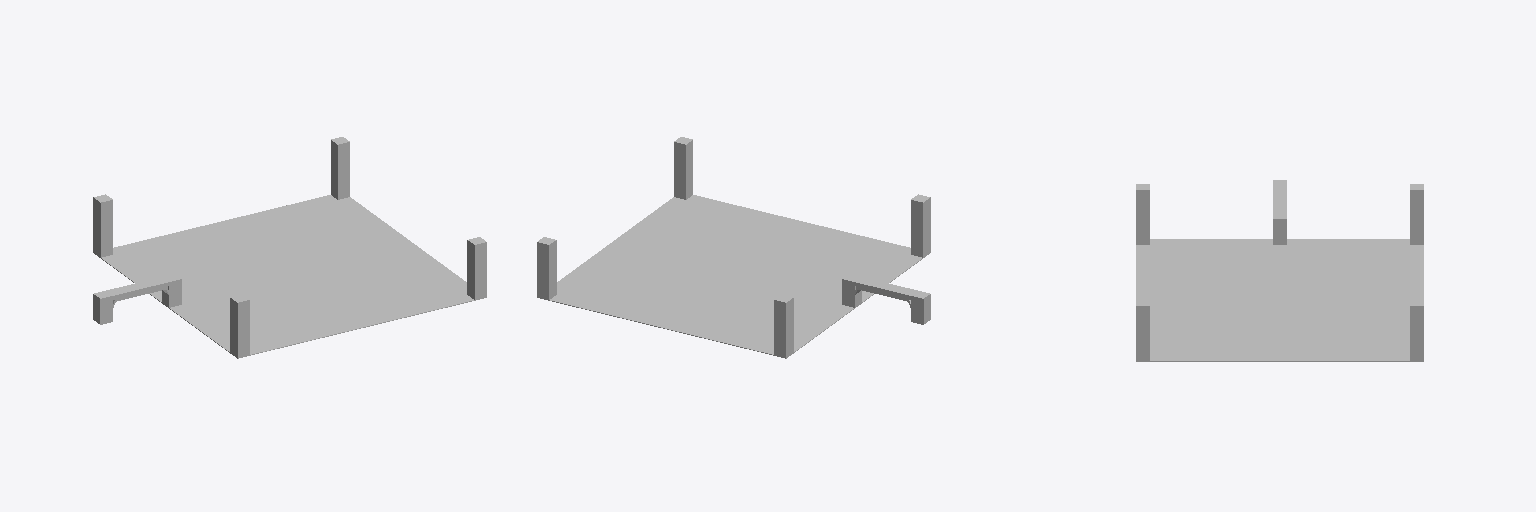
The model's file is vehicle.obj.
The picture shows the model from 3 angles: view 1: azimuth 30°, elevation 25°; view 2: azimuth 150°, elevation 25°; view 3: azimuth 270°, elevation 25°; orthographic projection.
Bounding box in the file's own units: 51000 × 8550 × 40000.